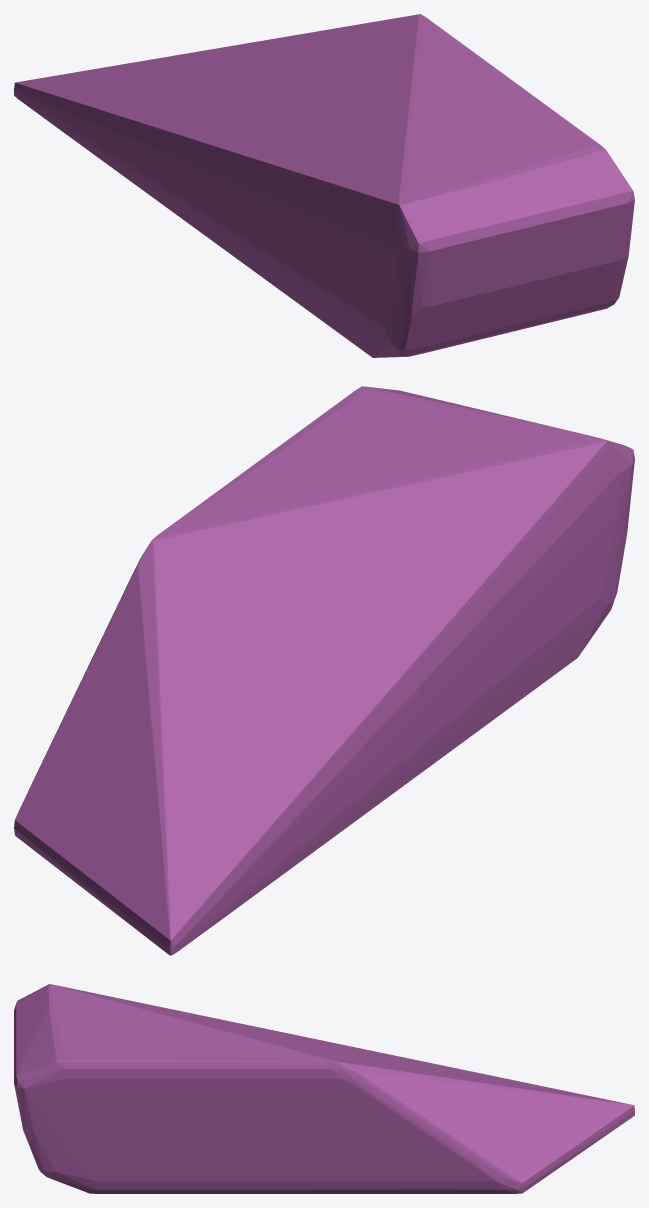
The model's file is left-hip-roll-0_part_7.obj.
3 renders of one model, top to bottom at view 1: azimuth 30°, elevation 25°; view 2: azimuth 150°, elevation 25°; view 3: azimuth 270°, elevation 25°, orthographic. The views are drawn at different scales.
Size of the model in its own units: 0.0269 by 0.02 by 0.085.
